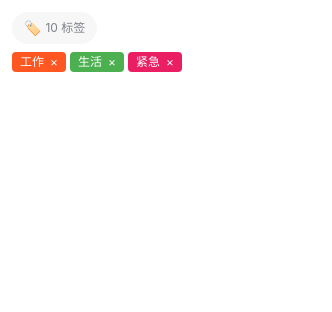
Test: TagPicker › should limit tags to 10 maximum
Step 1. Click the text "10 标签" → (65, 28), box [46, 20, 85, 36]
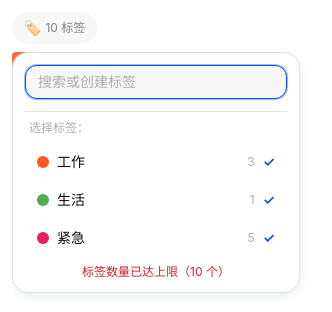
Check: the text "标签数量已达上限（10 个）" is shown, box [82, 264, 230, 279]
